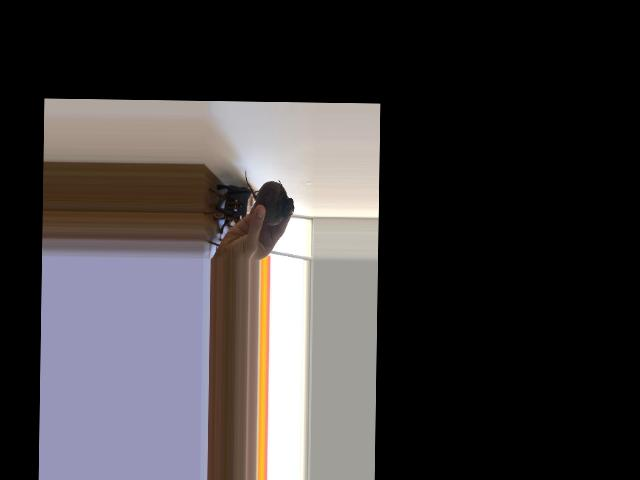beet: (244, 168, 294, 225)
